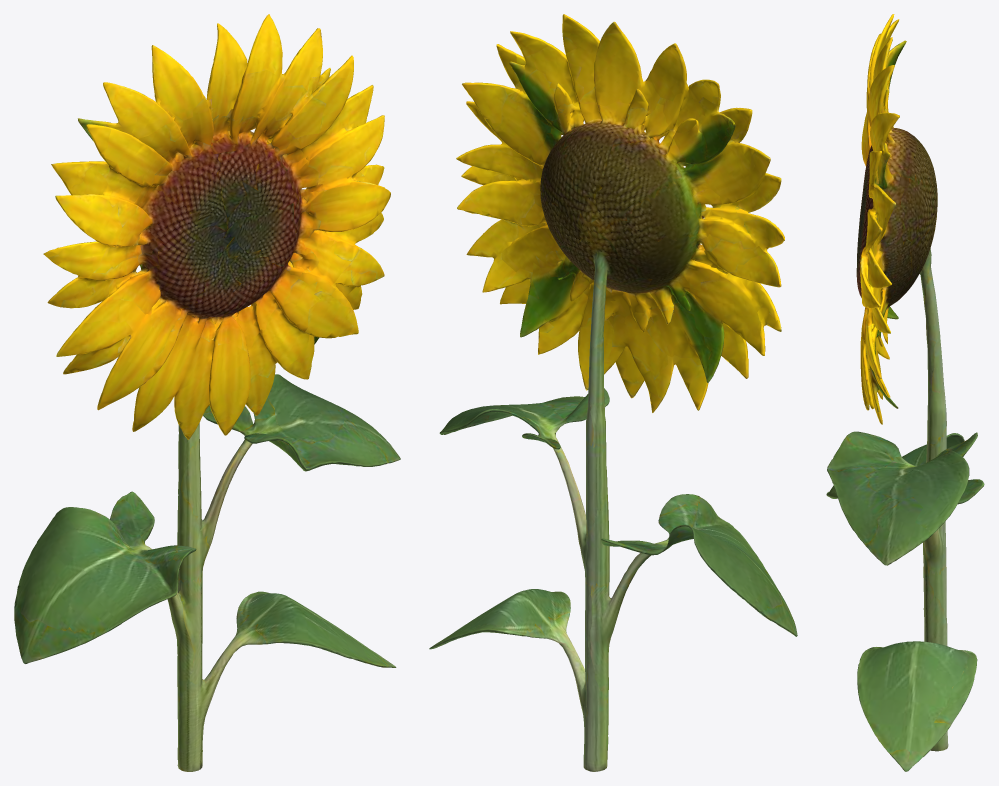
The picture shows the model from 3 angles, left to right: view 1: azimuth 30°, elevation 25°; view 2: azimuth 150°, elevation 25°; view 3: azimuth 270°, elevation 25°; orthographic projection. The views are drawn at different scales.
Visible parts, largest first — view 1: mesh_node; view 2: mesh_node; view 3: mesh_node.
Boxes of the visible parts, x1,y1,x2,y2 form: mesh_node: (14, 14, 400, 771); mesh_node: (429, 14, 797, 771); mesh_node: (826, 14, 984, 771).
Bounding box in the file's own units: 0.9898 × 1.9 × 0.3826.
Materials: 1 (1 with a texture image).
